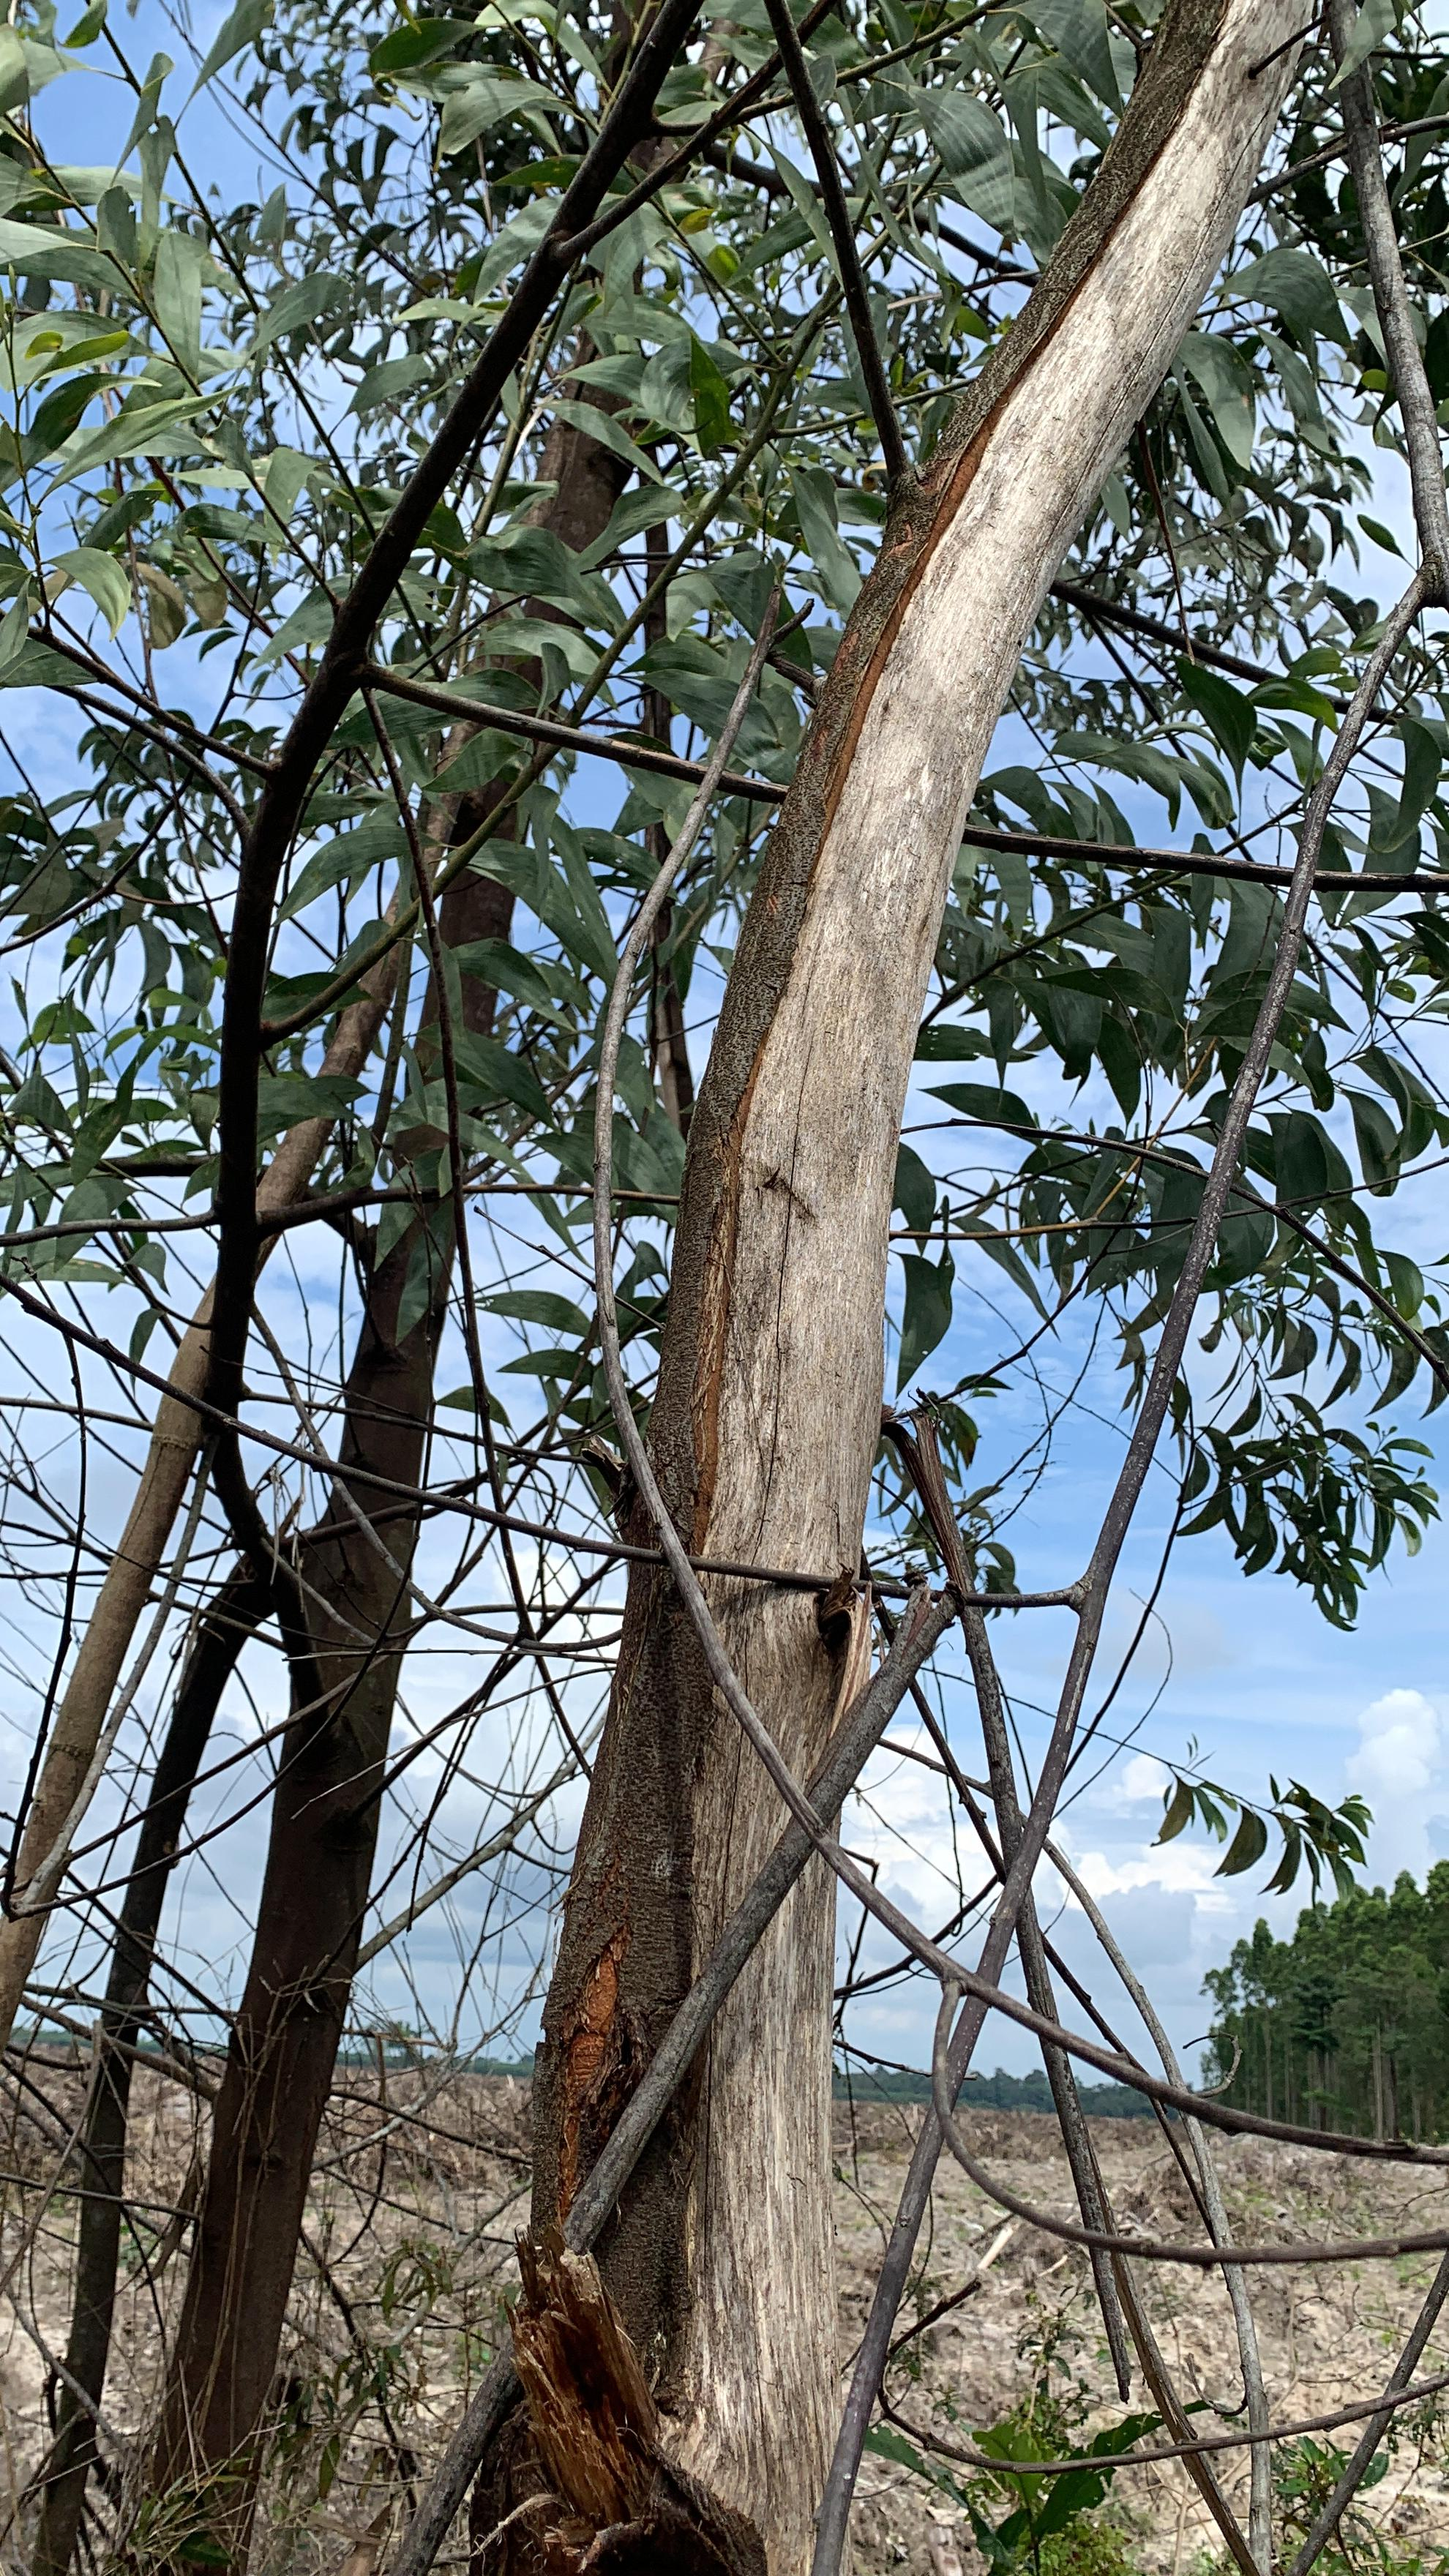Mammals Attack: (663, 849, 945, 2576), (828, 0, 1313, 807)
